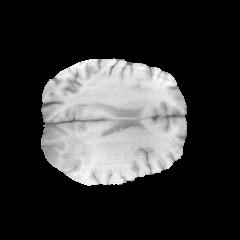glioma: (43, 123, 112, 177)
